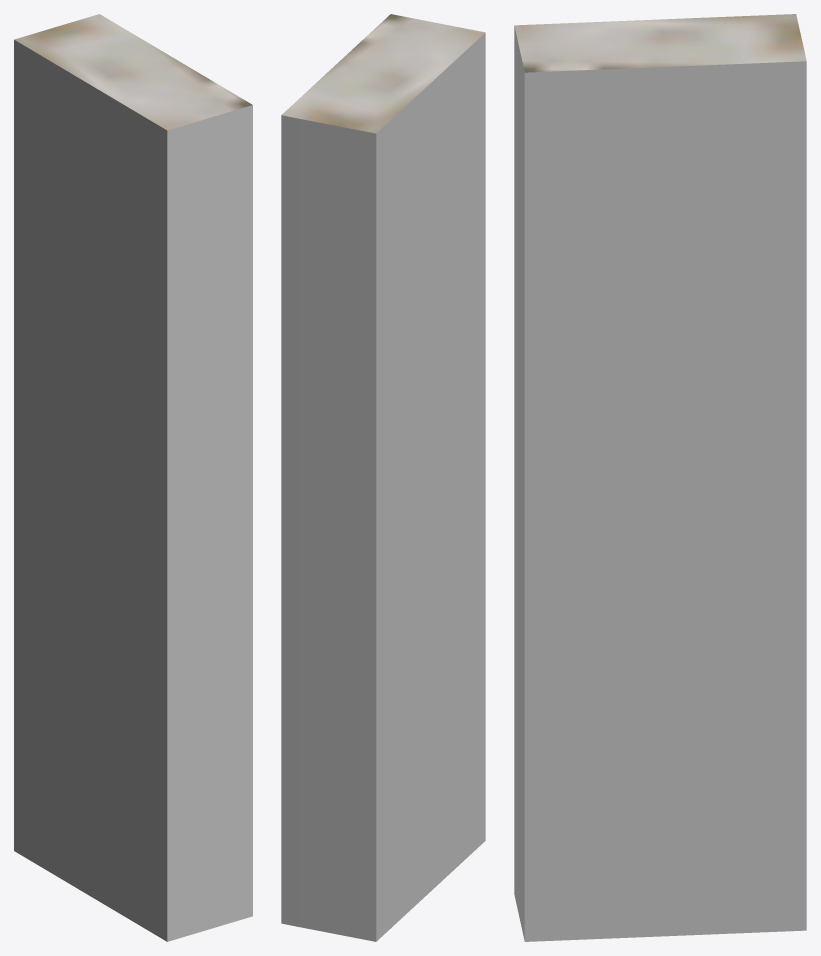
Rendered from DEBW_0010007THWR.gltf.
3 renders of one model, left to right at view 1: azimuth 30°, elevation 25°; view 2: azimuth 150°, elevation 25°; view 3: azimuth 270°, elevation 25°, orthographic. The views are drawn at different scales.
Parts seen in each view (by area): view 1: Z_UP; view 2: Z_UP; view 3: Z_UP.
Boxes of the visible parts, bbox=[...] form: Z_UP: bbox=[14, 14, 252, 941]; Z_UP: bbox=[281, 14, 485, 941]; Z_UP: bbox=[514, 14, 806, 941].
Size of the model in its own units: 1.6 by 11.06 by 3.37.
Materials: 2 (1 with a texture image).
